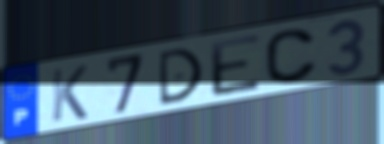3: (325, 16, 368, 78)
7: (104, 51, 146, 117)
C: (262, 27, 320, 87)
D: (156, 45, 205, 108)
E: (207, 31, 264, 99)
K: (49, 63, 90, 125)
